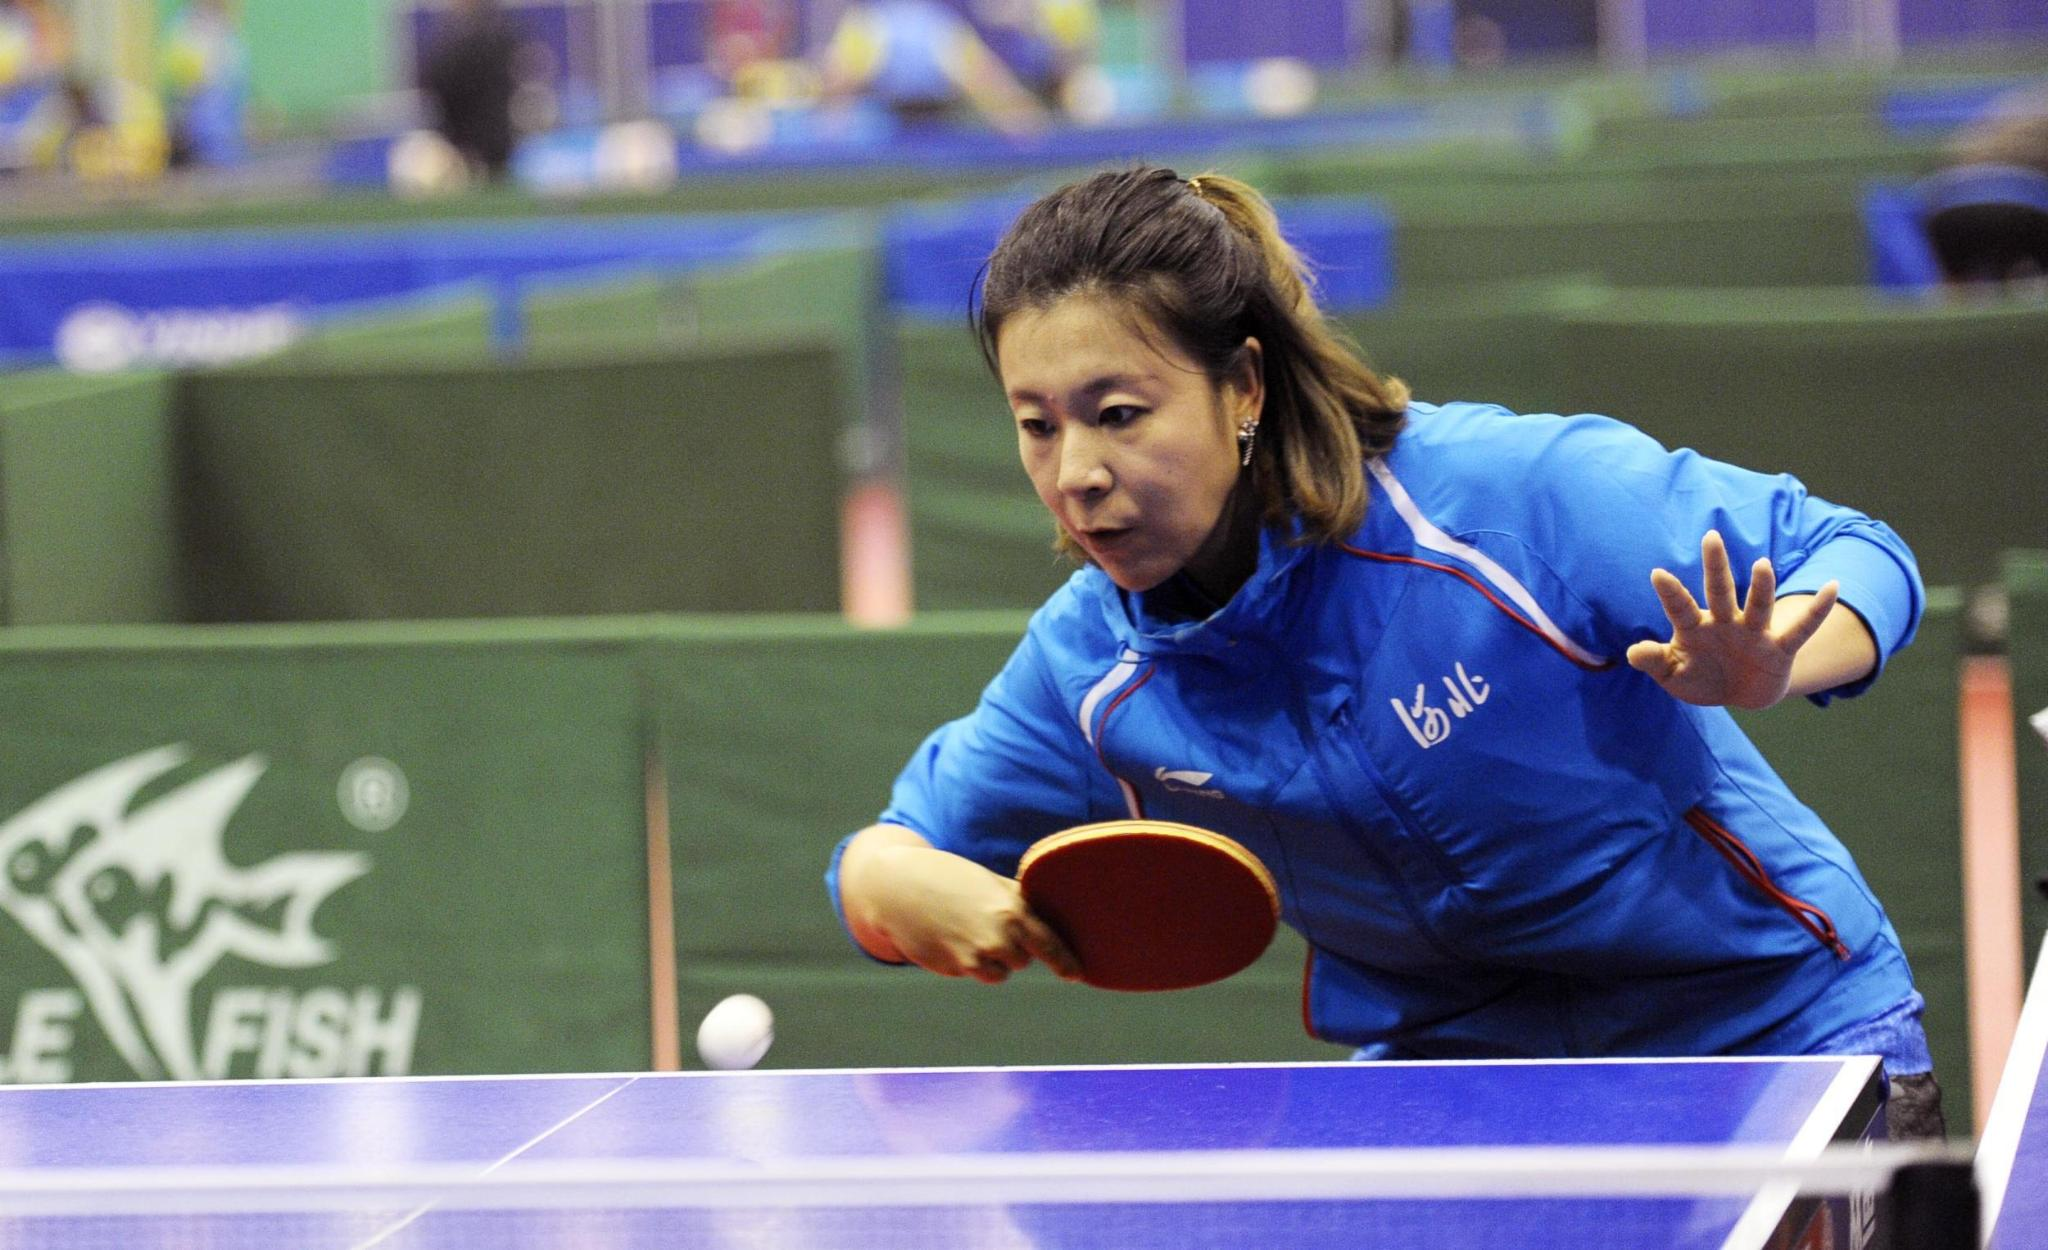ball: (685, 984, 784, 1069)
